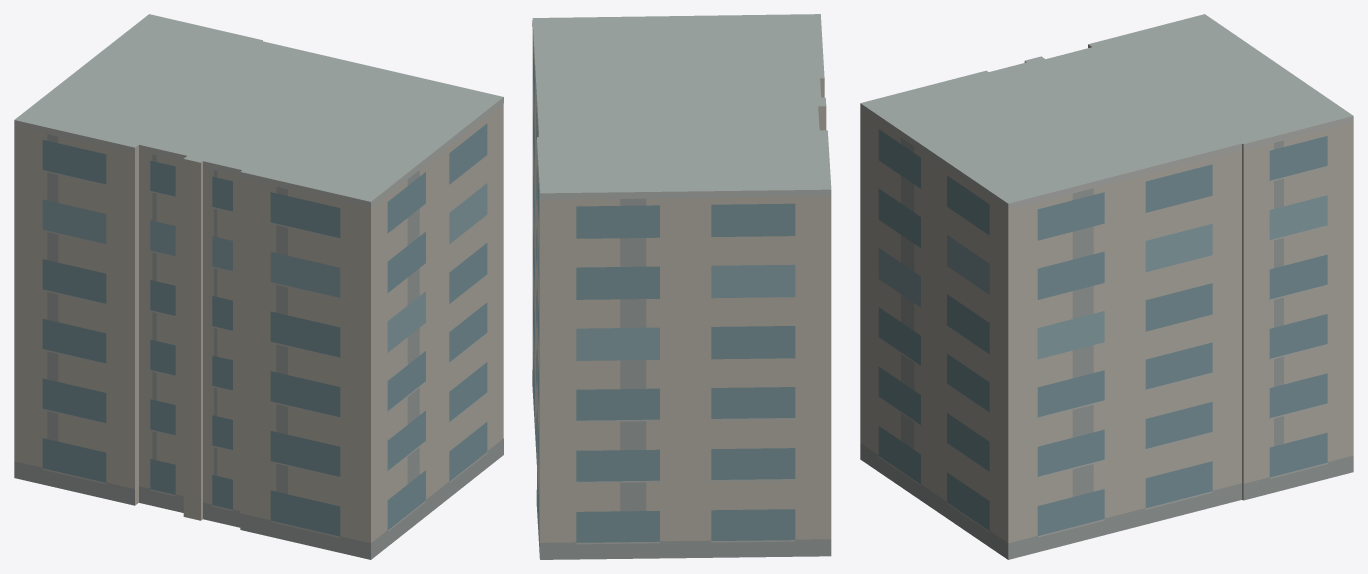
File: survey-upis-32862724.glb
3 views of the same model, side by side, from view 1: azimuth 30°, elevation 25°; view 2: azimuth 150°, elevation 25°; view 3: azimuth 270°, elevation 25° (orthographic). The views are drawn at different scales.
Visible parts, largest first — view 1: survey-upis-32862724.tmp; view 2: survey-upis-32862724.tmp; view 3: survey-upis-32862724.tmp.
Boxes of the visible parts, x1,y1,x2,y2 form: survey-upis-32862724.tmp: [14, 14, 503, 559]; survey-upis-32862724.tmp: [532, 14, 831, 559]; survey-upis-32862724.tmp: [860, 14, 1353, 559].
Size of the model in its own units: 15.26 by 13.35 by 16.77.
